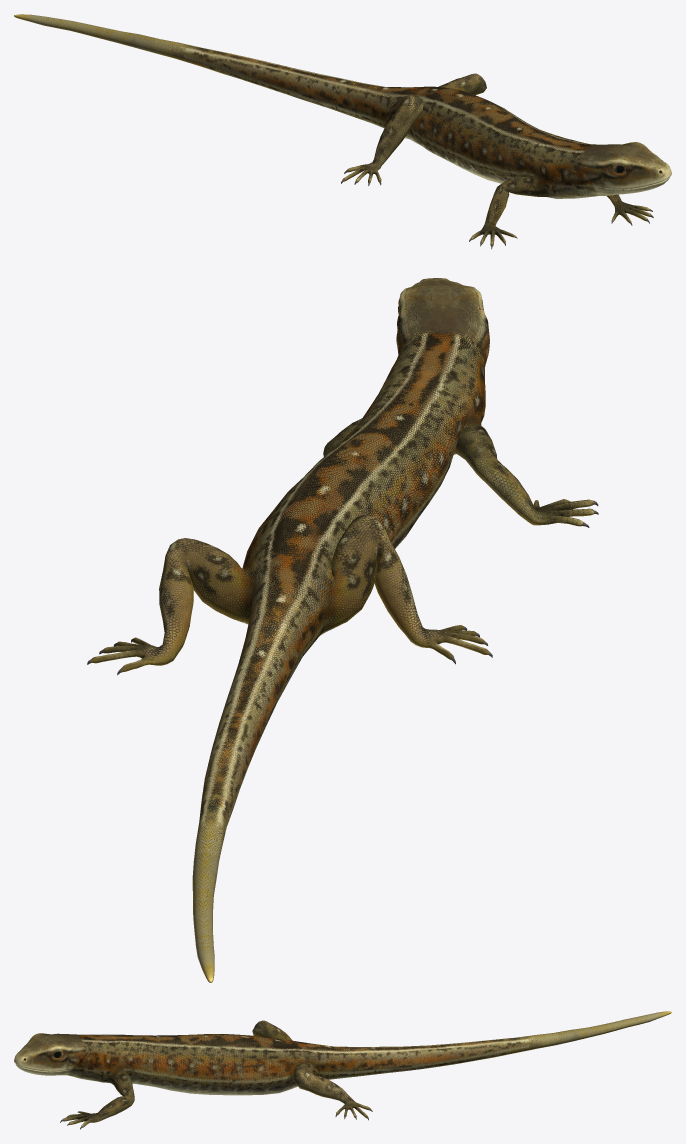
File: Running570.obj
3 views of the same model, one above another, from view 1: azimuth 30°, elevation 25°; view 2: azimuth 150°, elevation 25°; view 3: azimuth 270°, elevation 25° (orthographic). The views are drawn at different scales.
Visible parts, largest first — view 1: Lizard; view 2: Lizard; view 3: Lizard.
Boxes of the visible parts, x1,y1,x2,y2 form: Lizard: [14, 14, 671, 249]; Lizard: [87, 278, 598, 982]; Lizard: [14, 1011, 671, 1129].
Bounding box in the file's own units: 40.02 × 12.09 × 97.3.
